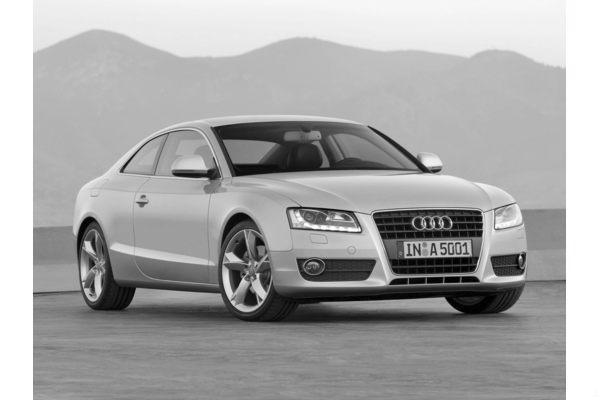car: (72, 109, 529, 323)
